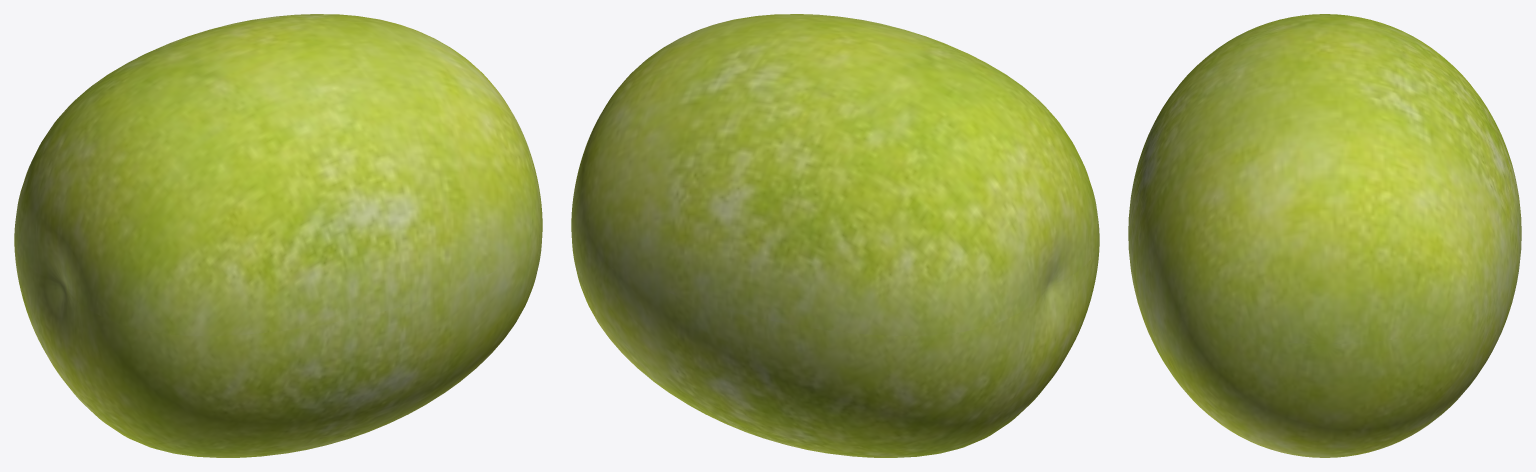
The model's file is KiwiFlesh.obj.
3 renders of one model, left to right at view 1: azimuth 30°, elevation 25°; view 2: azimuth 150°, elevation 25°; view 3: azimuth 270°, elevation 25°, orthographic. The views are drawn at different scales.
Parts seen in each view (by area): view 1: KiwiFlesh; view 2: KiwiFlesh; view 3: KiwiFlesh.
Part boxes in pixels (left/top/right/bottom): KiwiFlesh: left=14, top=14, right=542, bottom=457; KiwiFlesh: left=571, top=14, right=1099, bottom=457; KiwiFlesh: left=1128, top=14, right=1521, bottom=457.
Bounding box in the file's own units: 0.0598 × 0.05 × 0.0481.
Materials: 1 (1 with a texture image).
